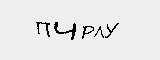Л: (92, 24, 105, 40)
П: (34, 20, 54, 38)
Р: (80, 23, 95, 44)
У: (103, 20, 122, 41)
Ч: (51, 20, 78, 41)
